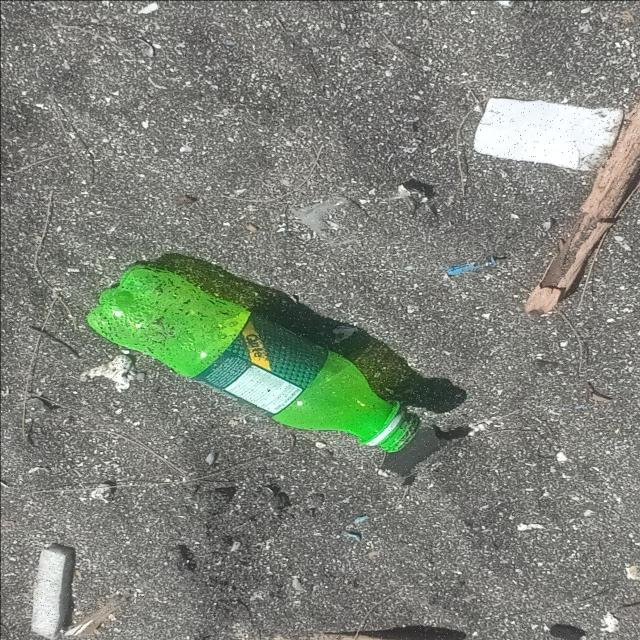plastic_waste: (85, 262, 424, 455)
